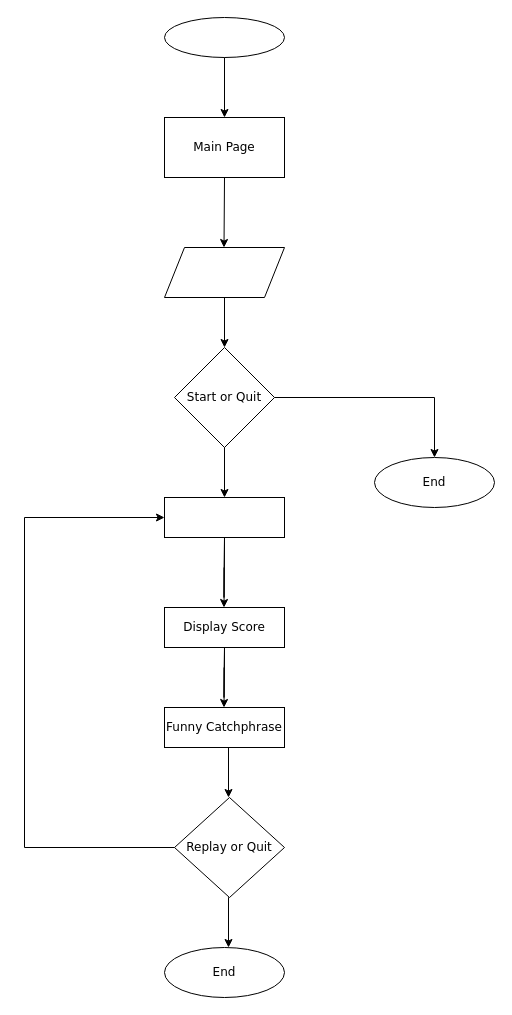
Image size: 512x1015. Some labels were removed from this diagram. The shapes that lost their labels are listed below. From the top down, each one's centre as x and y in pixels, then its label:
[224,37]: Start
[224,272]: User Input
[224,517]: Quiz Gameplay
